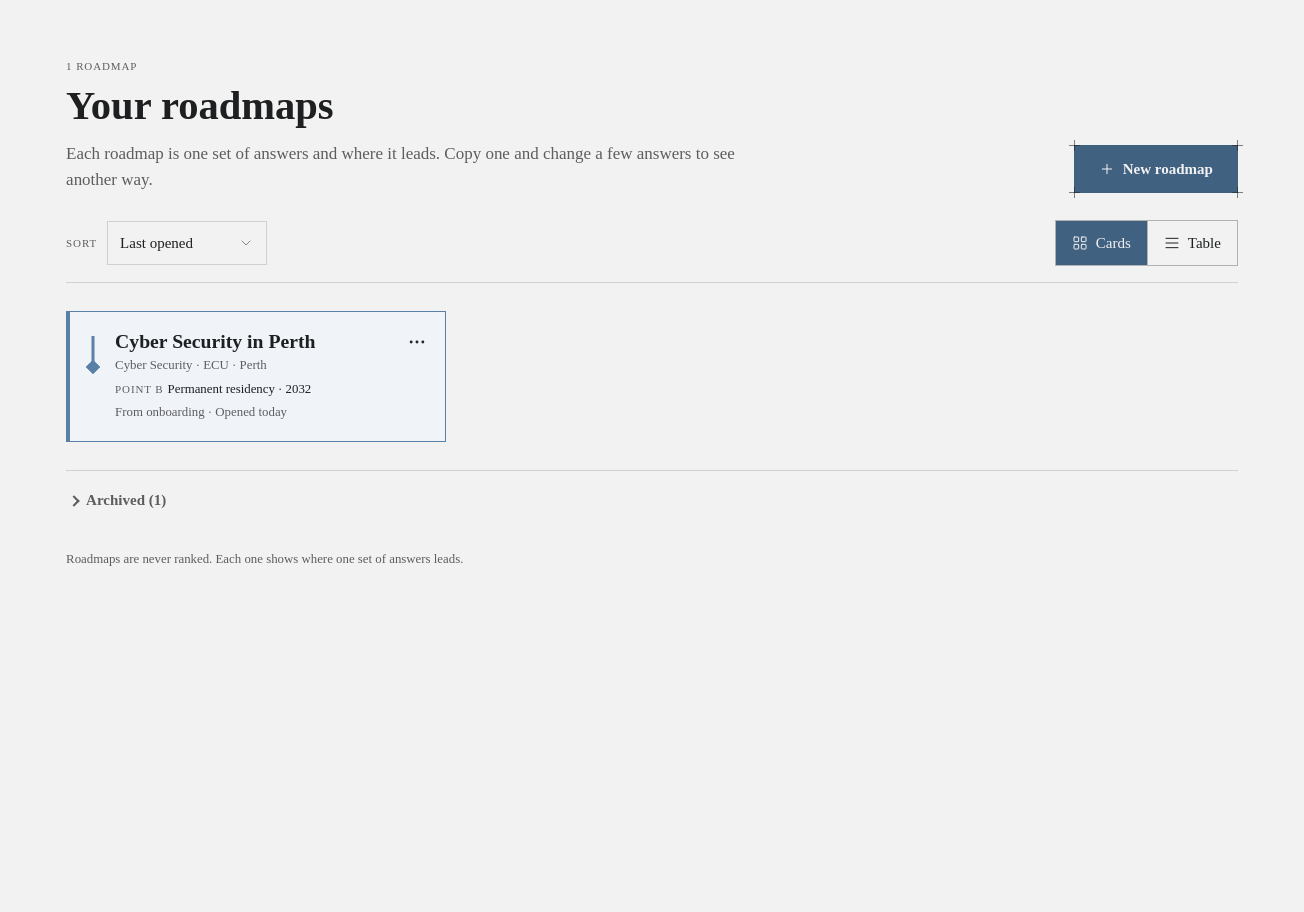
the … menu › offers Restore and Delete on an archived roadmap, even beside her only other one
Click the button "Archived (1)" at (118,500), box [66,478,170,522]
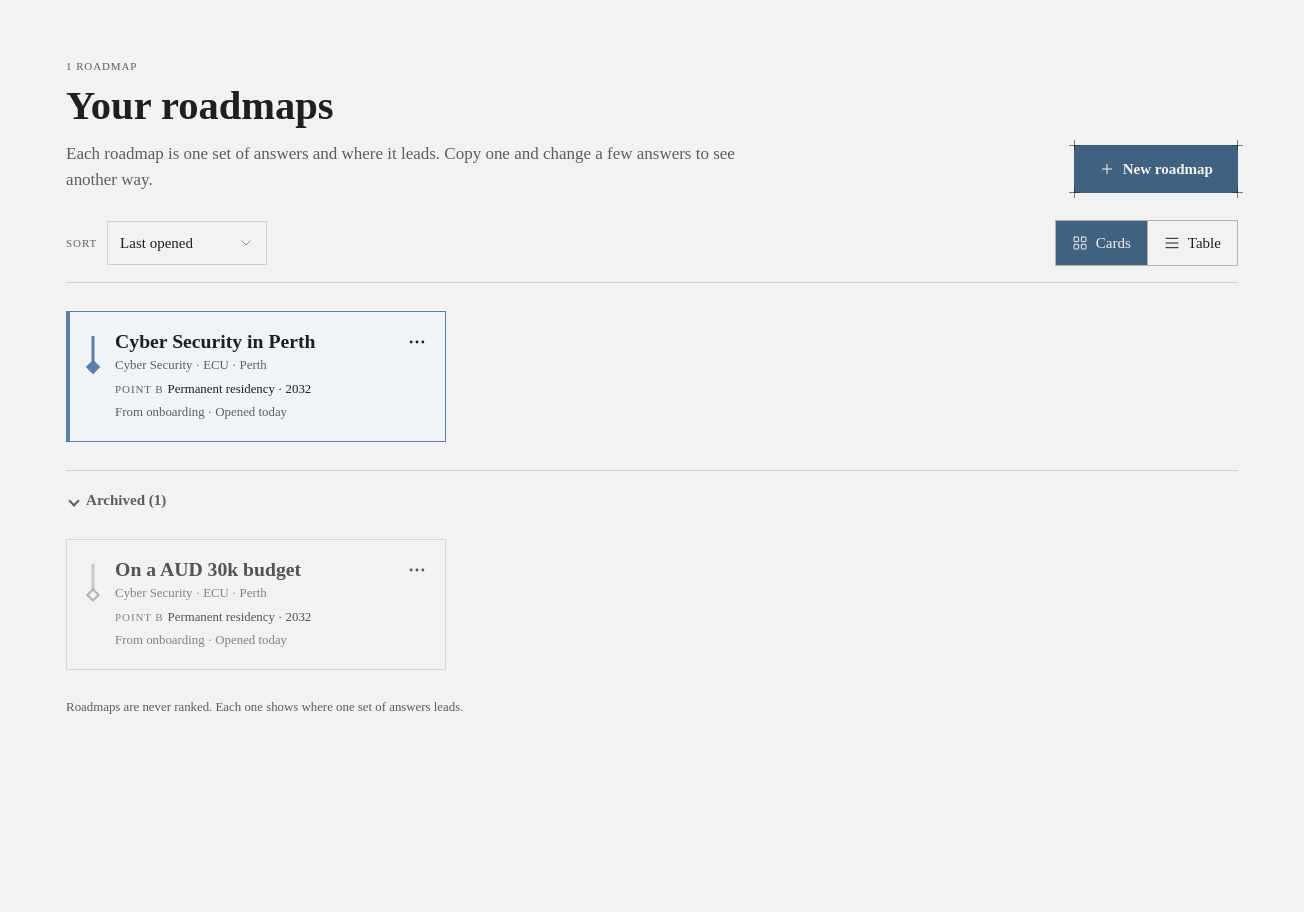
Click the button named "More for On a AUD 30k budget" at (417,570), box [395,548,439,592]
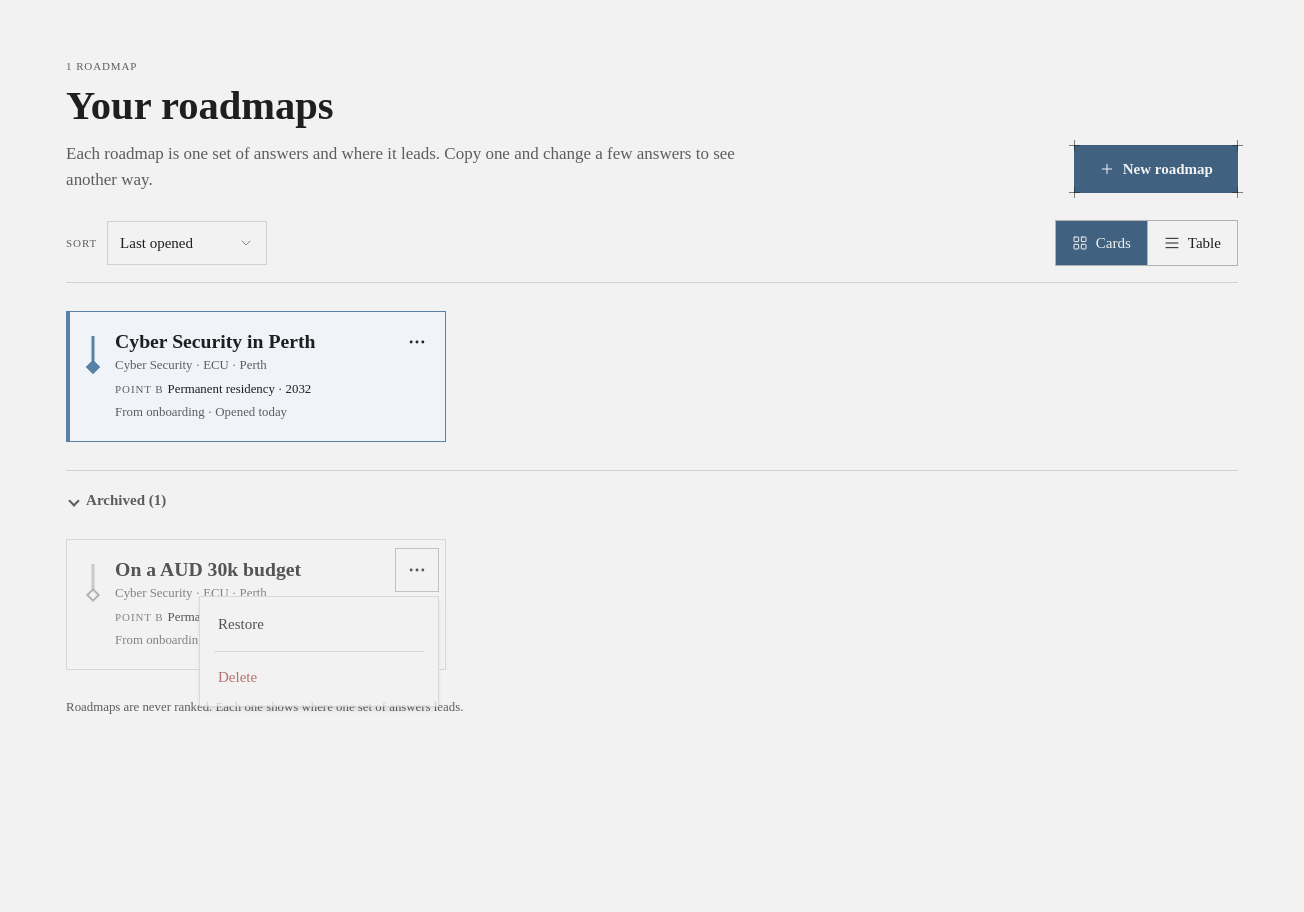
Result: the menu items read "Restore", "Delete", in this order at [206,602,432,646]; [206,656,432,700]
